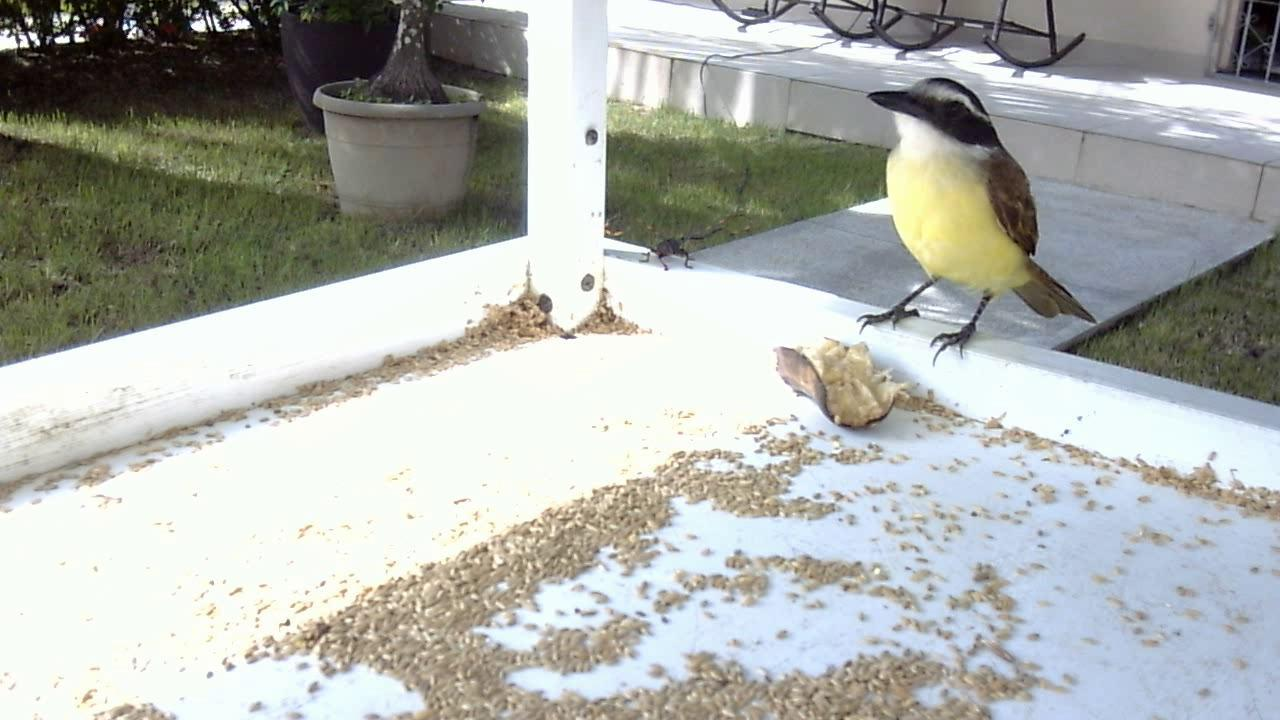bem_te_vi: (837, 69, 1103, 376)
